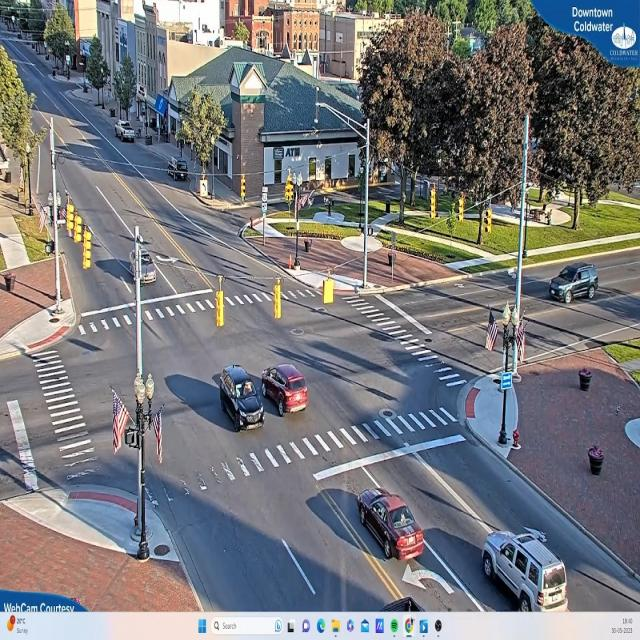car: (478, 530, 572, 612), (239, 362, 301, 422), (217, 366, 265, 430), (263, 367, 311, 418), (548, 261, 602, 303), (117, 123, 136, 143)
truck: (355, 488, 427, 571)
